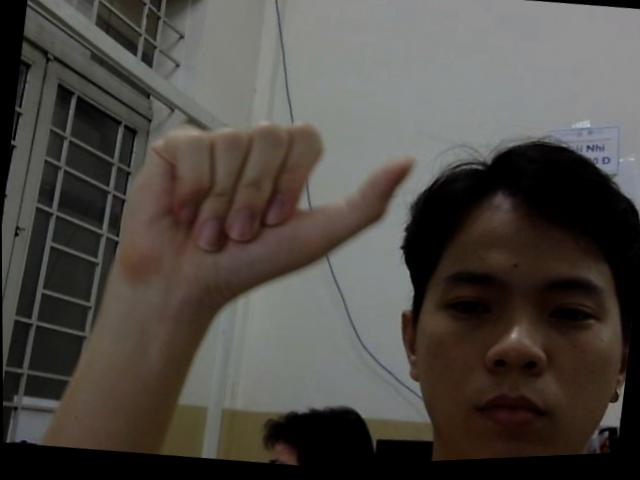A: (123, 103, 425, 313)
